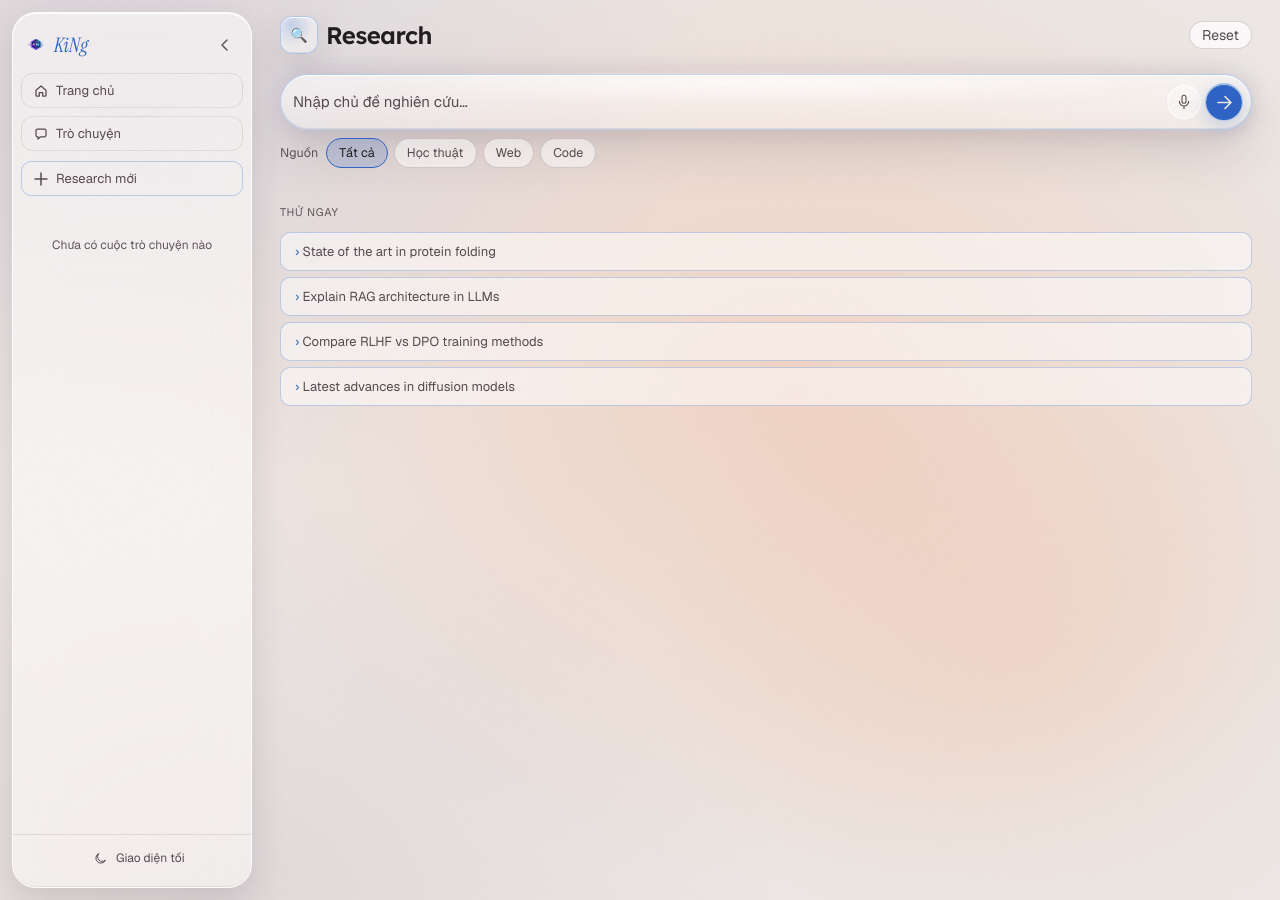
Test: sidebar reopen control on /research › reopens via keyboard (Enter on the focused reopen button)
Click the button named "Đóng sidebar".
click(225, 45)  # box [211, 31, 239, 59]
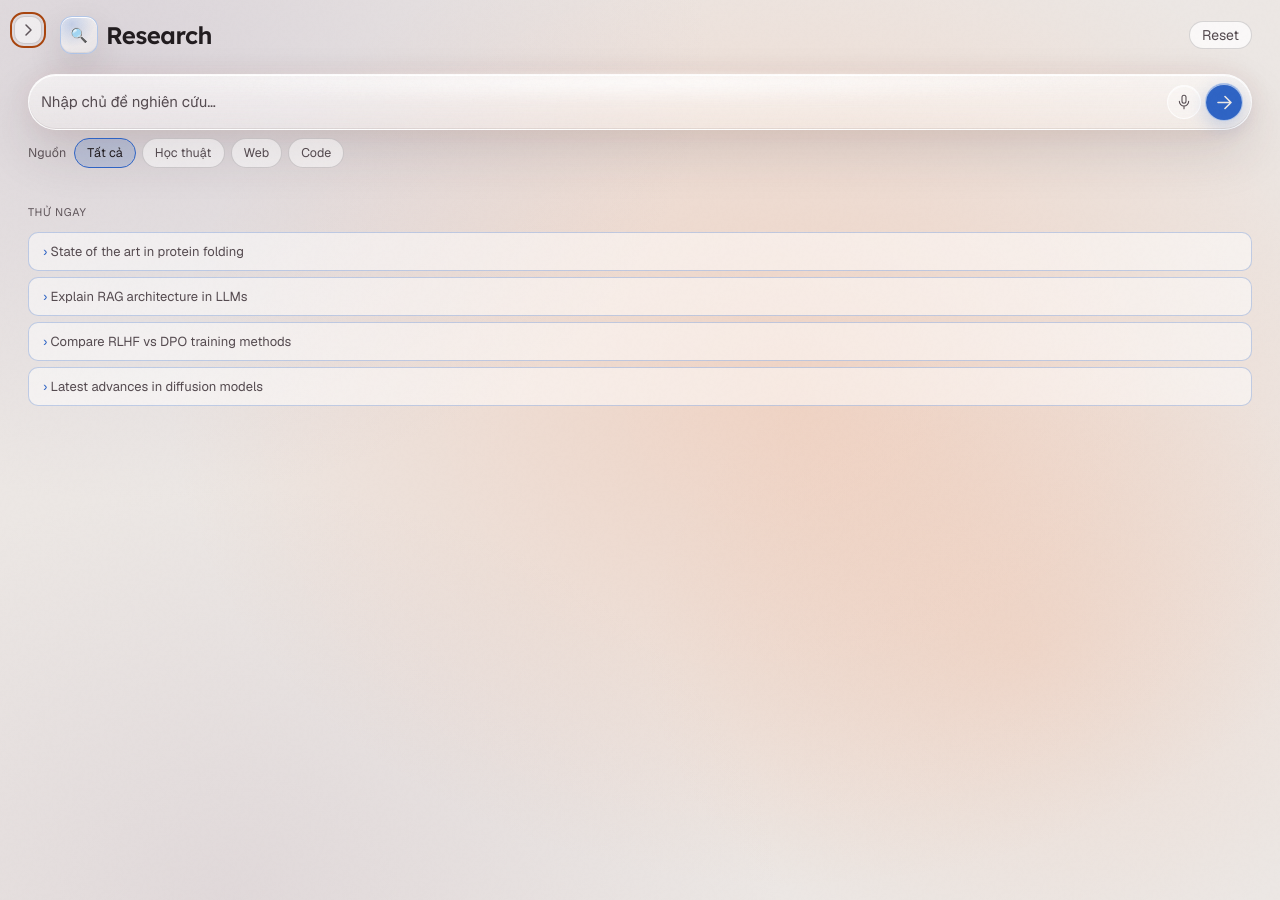
Press Enter
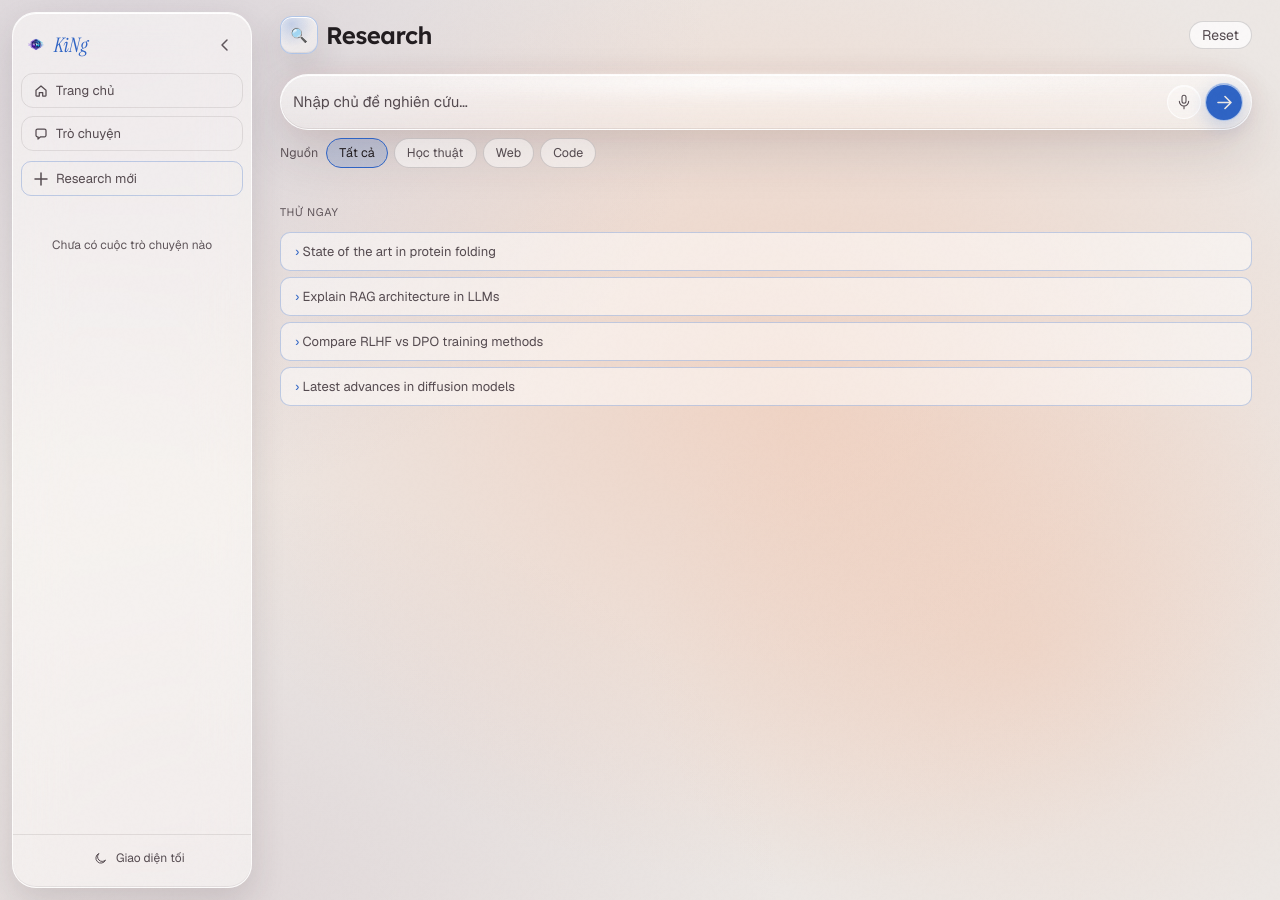
Now the button named "Đóng sidebar" is shown, box [211, 31, 239, 59]
